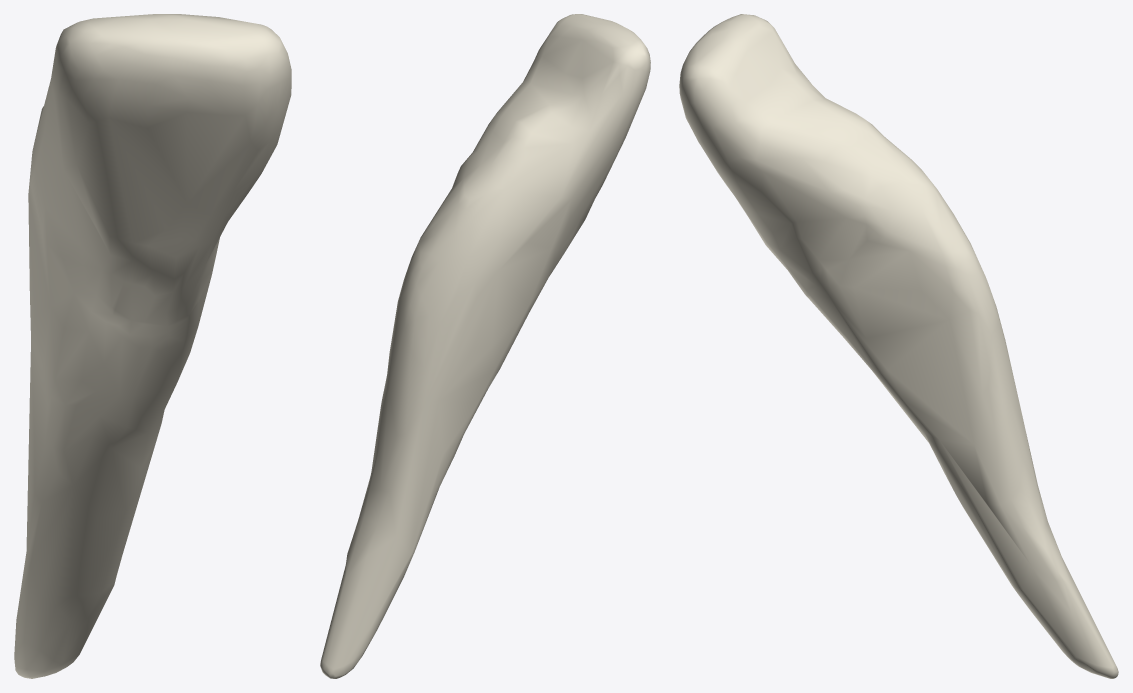
3 views of the same model, side by side, from view 1: azimuth 30°, elevation 25°; view 2: azimuth 150°, elevation 25°; view 3: azimuth 270°, elevation 25° (orthographic). The views are drawn at different scales.
Visible parts, largest first — view 1: ZA_03577994b0170d62; view 2: ZA_03577994b0170d62; view 3: ZA_03577994b0170d62.
Boxes of the visible parts, x1,y1,x2,y2 form: ZA_03577994b0170d62: (14, 14, 291, 678); ZA_03577994b0170d62: (320, 14, 650, 678); ZA_03577994b0170d62: (679, 14, 1118, 678).
Bounding box in the file's own units: 0.00769 × 0.0245 × 0.0164.
